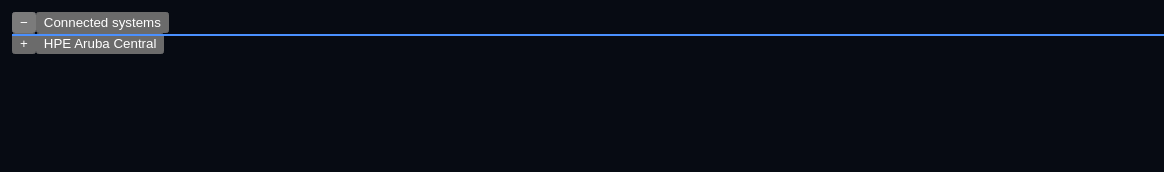
InventoryTree › loads only the expanded branch and supports arrow-key focus movement
This screenshot has width=1164, height=172.
Expected: the text "HPE Aruba Central" is shown, [44,36,156,51]
Press ArrowDown in the list item "Connected systems", box [12,12,169,33]
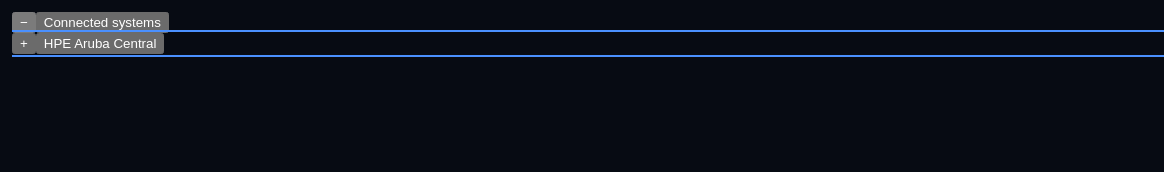
Click the button named "Expand HPE Aruba Central" at (24, 44), box [12,33,36,54]
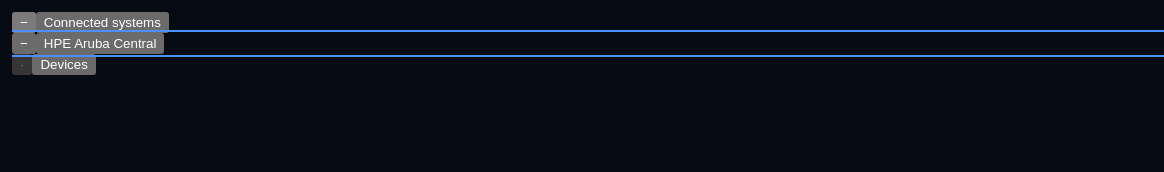
Result: the text "Devices" is shown at [40,57,88,72]
